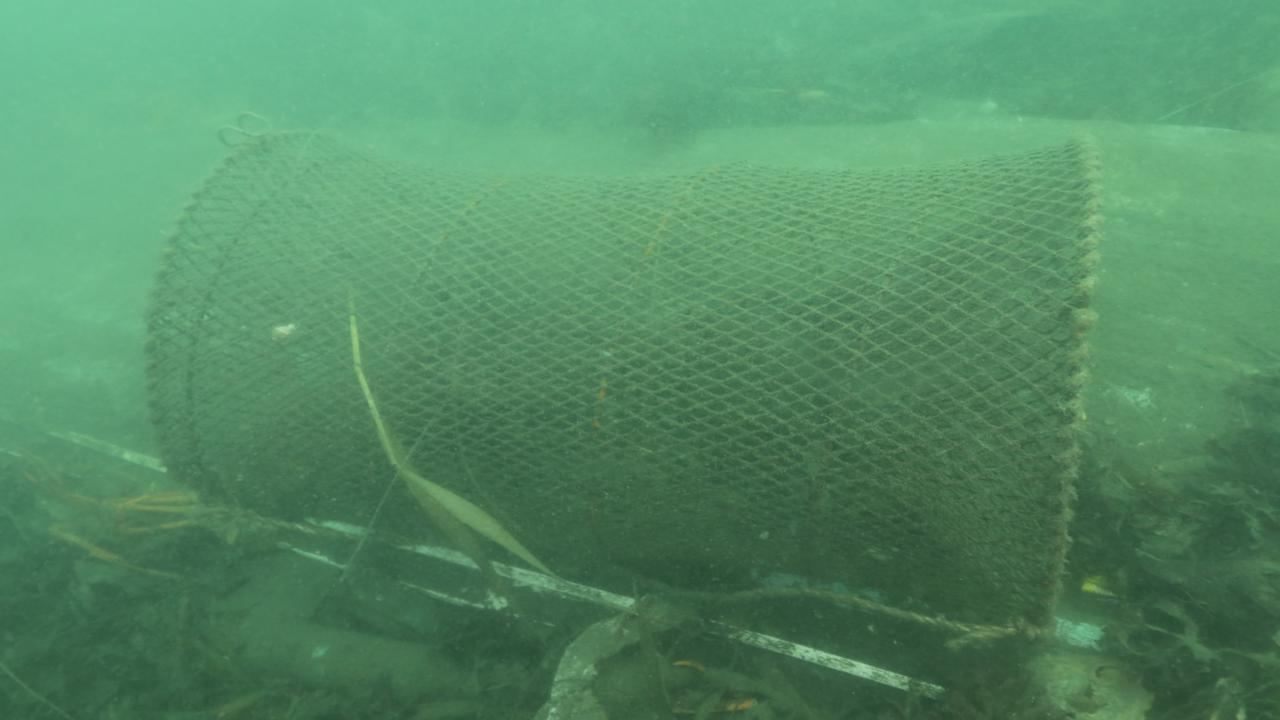spring fish trap: (137, 125, 1105, 643)
